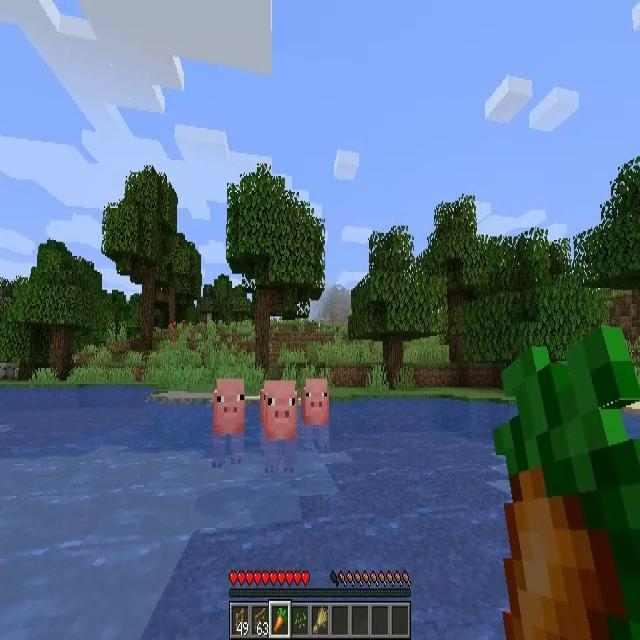pig: (260, 381, 296, 473), (211, 380, 246, 468), (301, 378, 329, 452)
